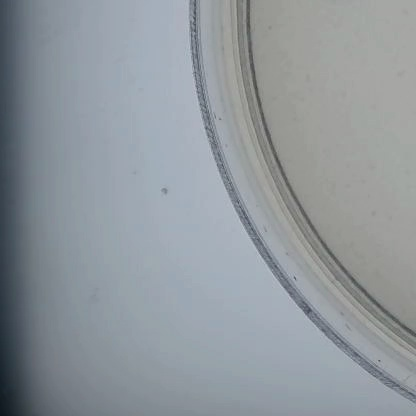worm: (358, 21, 372, 40)
